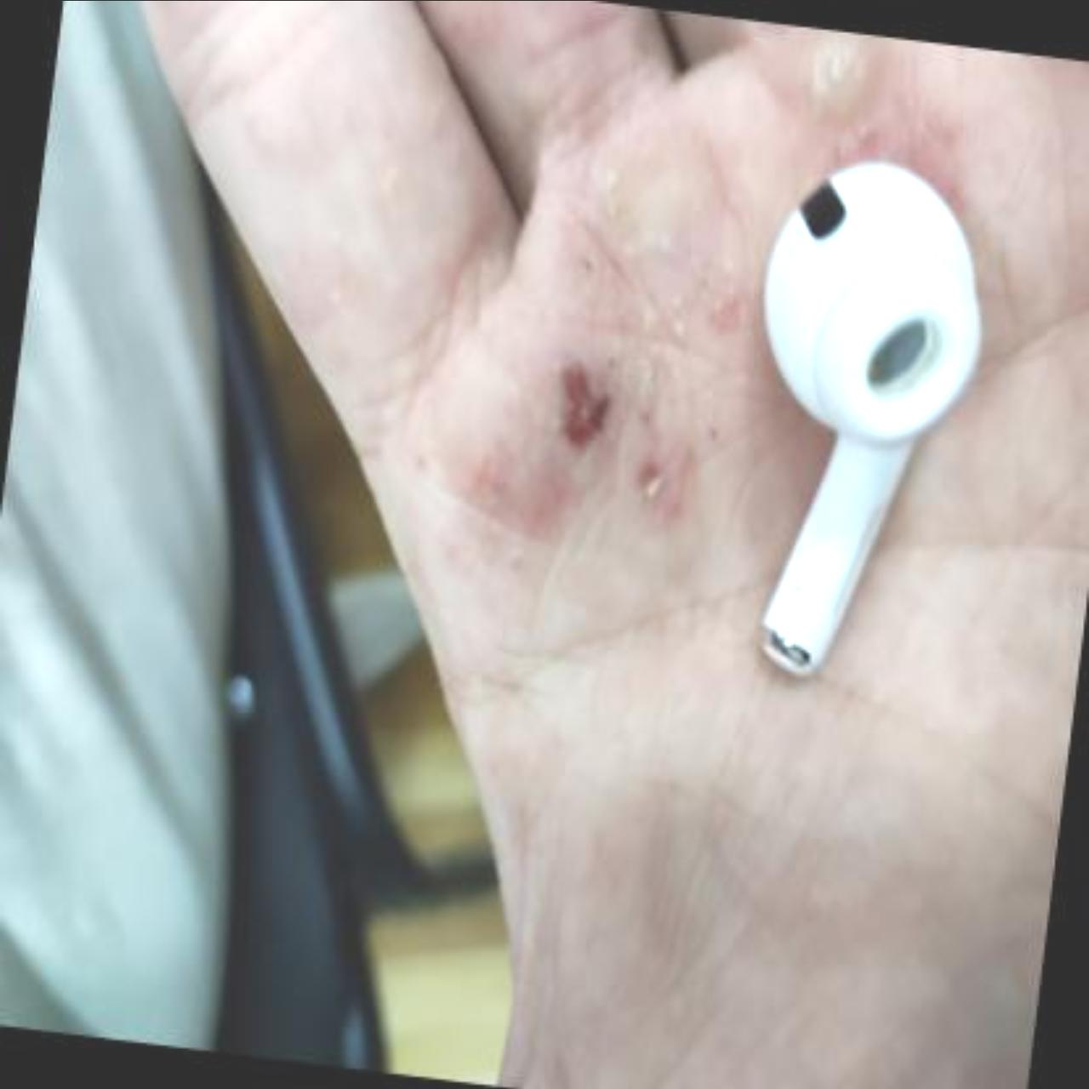Airpods_Units: (644, 71, 1032, 696)
